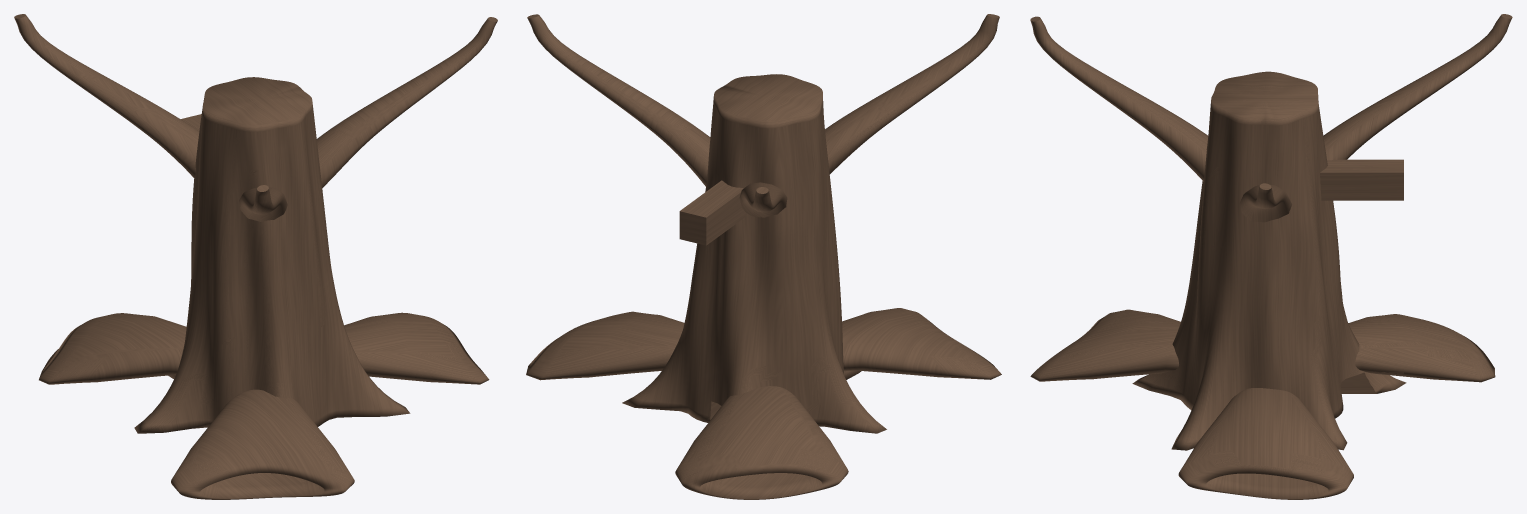
Rendered from hollow-bellroot.glb.
3 views of the same model, side by side, from view 1: azimuth 30°, elevation 25°; view 2: azimuth 150°, elevation 25°; view 3: azimuth 270°, elevation 25° (orthographic).
Parts seen in each view (by area): view 1: ceremonial-bellroot-tree_0; view 2: ceremonial-bellroot-tree_0; view 3: ceremonial-bellroot-tree_0.
Part boxes in pixels (x1,y1,x2,y2): ceremonial-bellroot-tree_0: (14,14,497,499); ceremonial-bellroot-tree_0: (526,14,1001,499); ceremonial-bellroot-tree_0: (1030,14,1512,499).
Size of the model in its own units: 118 by 94.39 by 125.
1 material, 1 textured.
